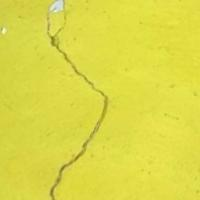crack: (28, 0, 119, 199)
